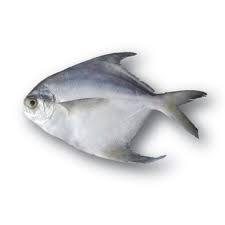Ikan Bawal: (22, 52, 203, 164)
